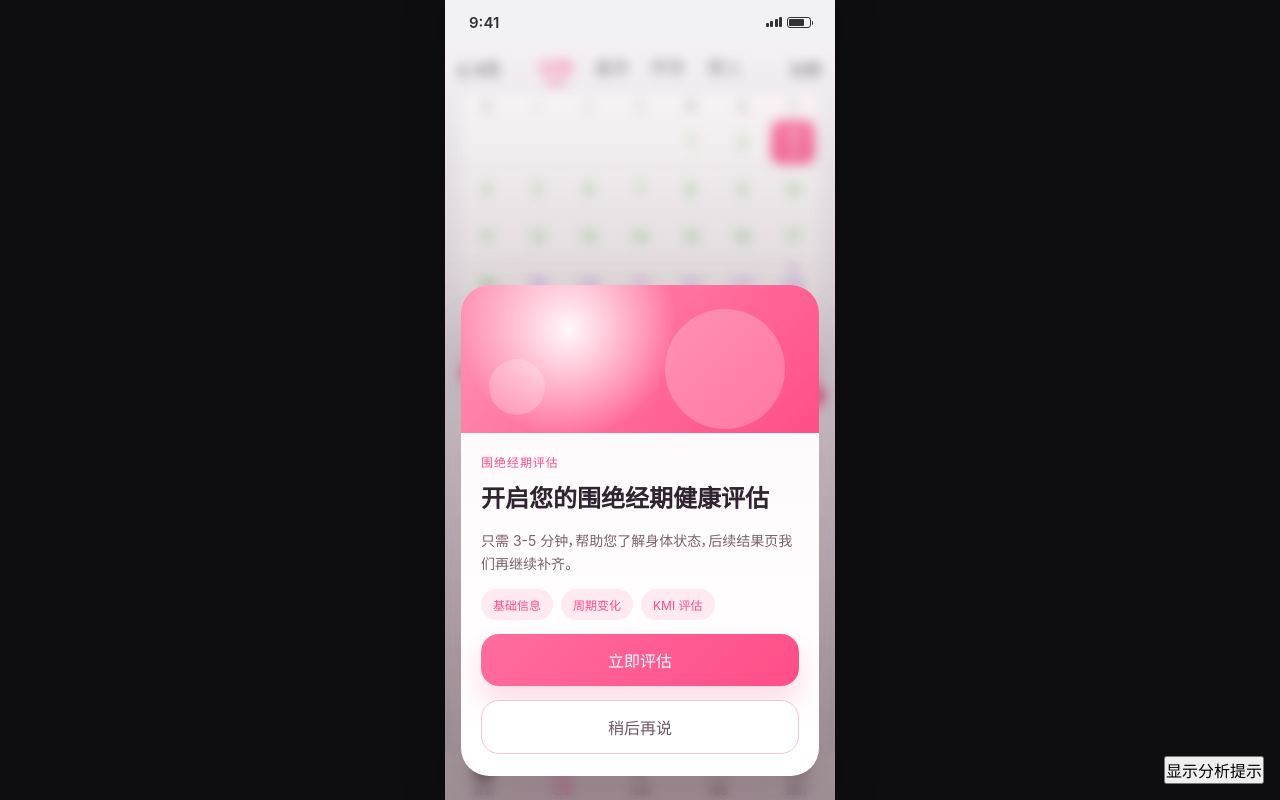
scene1 assessment flow › returns to the commercial scene from the first assessment step
The image size is (1280, 800).
Click the button "立即评估" at (640, 660), box [481, 634, 799, 686]
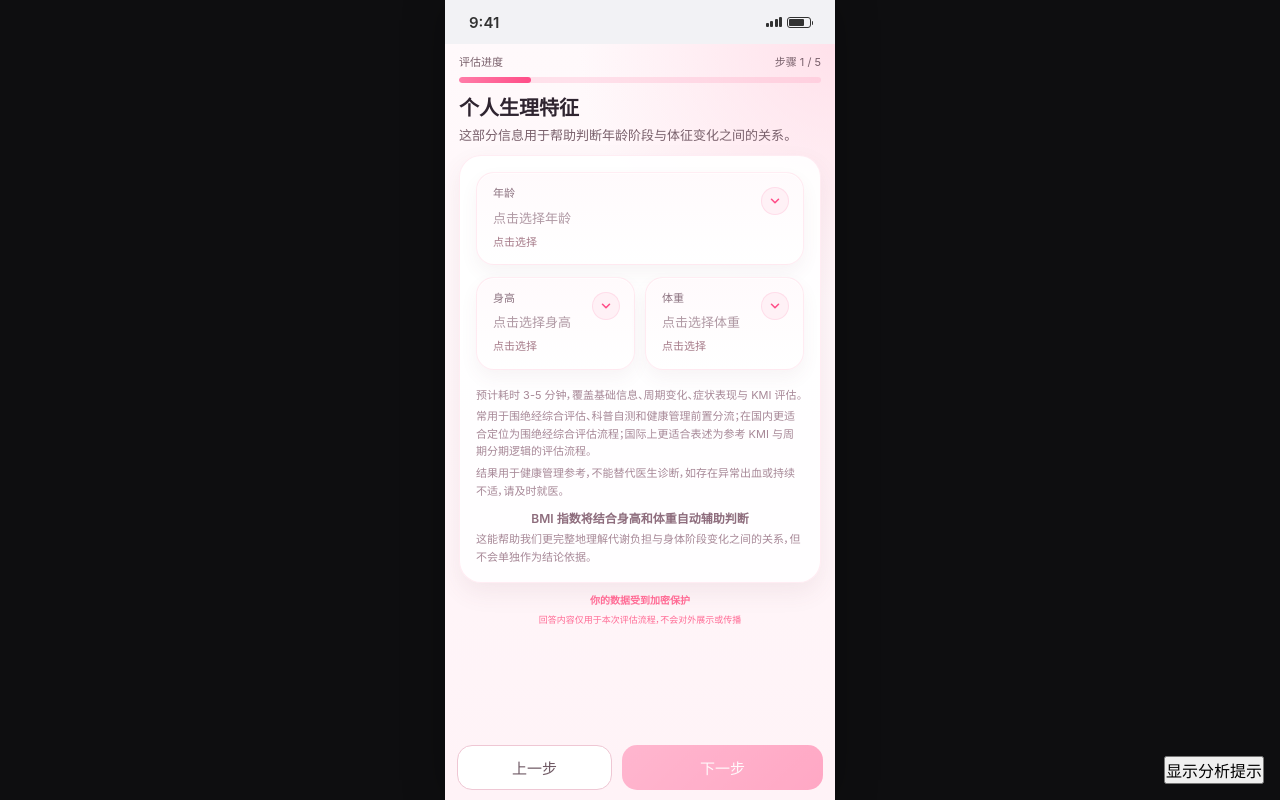
expect the button "上一步" is enabled: met
Click the button "上一步" at (534, 768), box [457, 745, 612, 790]
(page scrolled)
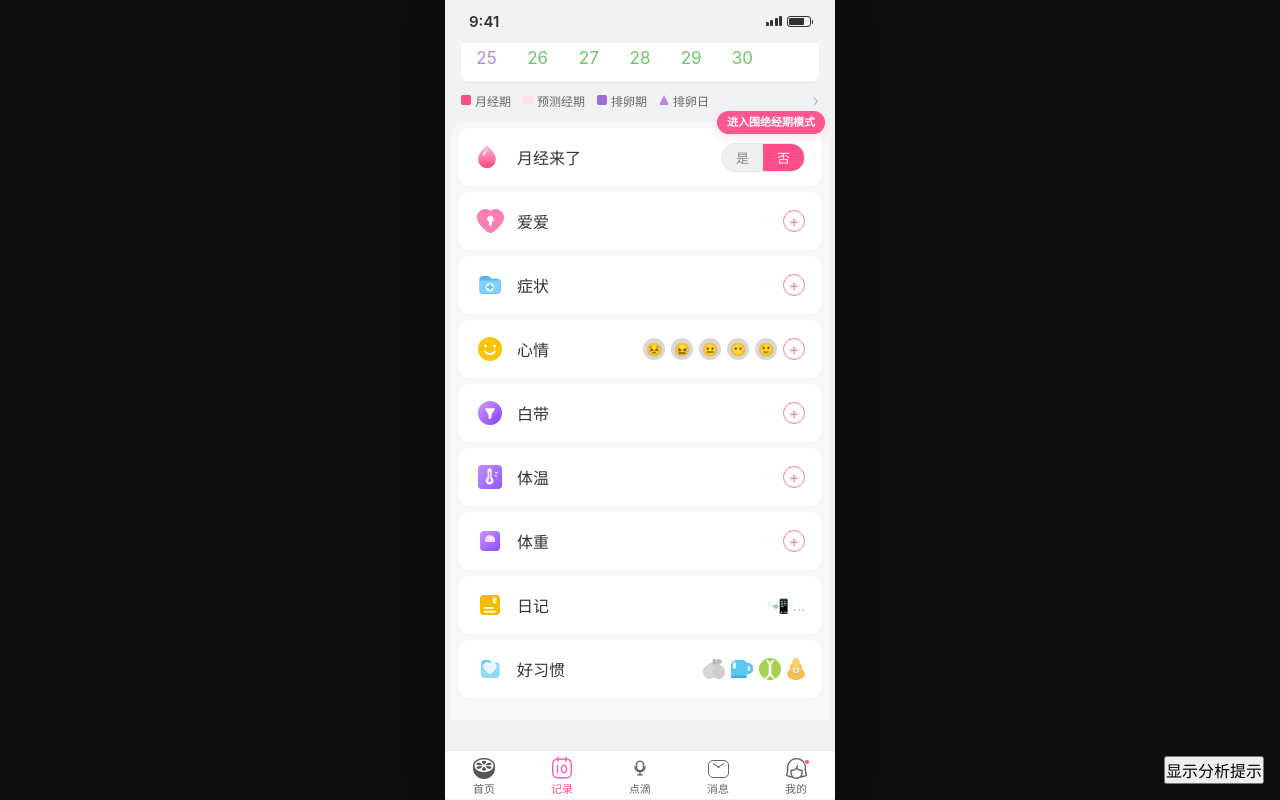
expect the element with test id "scene1-record-list" is shown: met, box [451, 122, 829, 720]
expect the element with test id "scene1-assessment-shell" is gone: met
